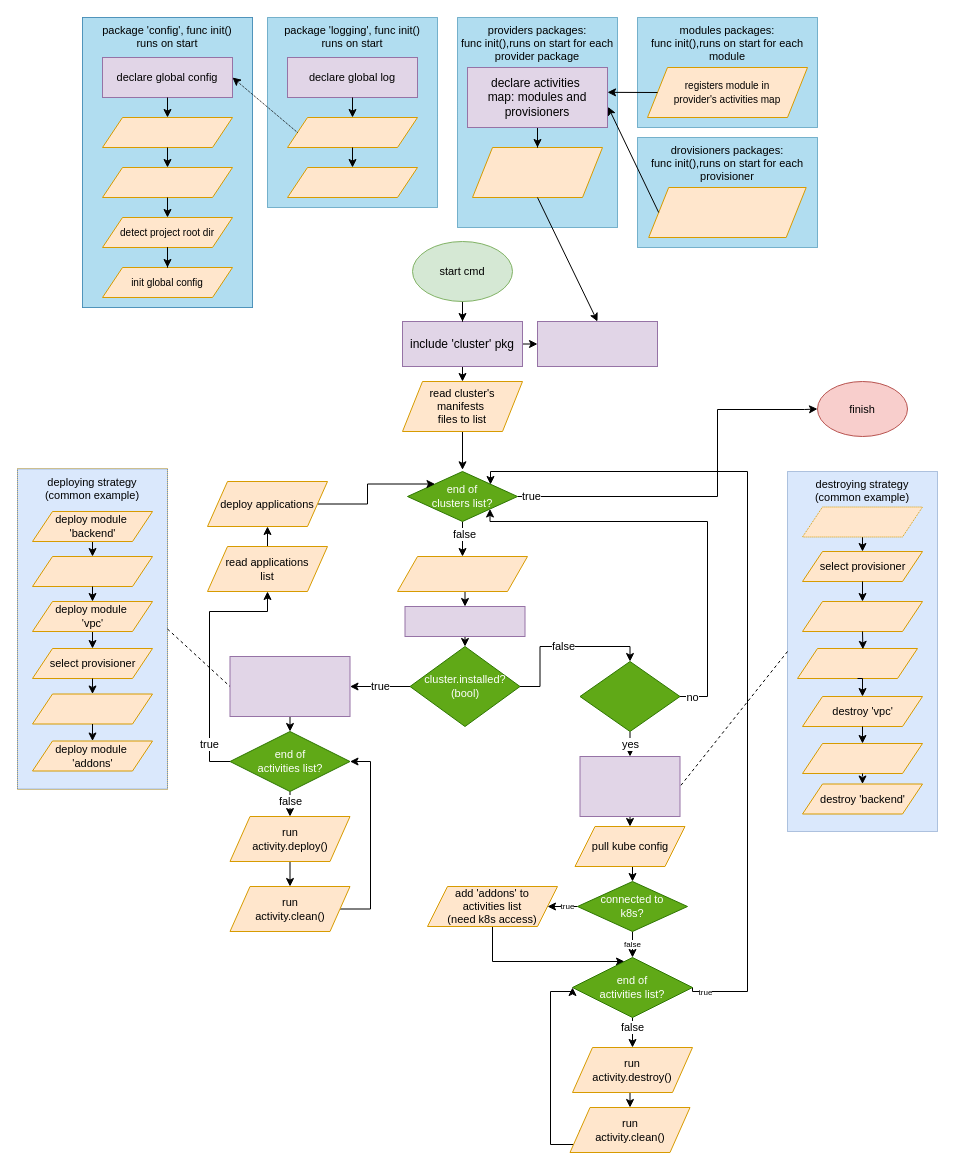
Some shapes in this 955 by 1170 pixel diagram are drawn without their labels. The shapes that lost their labels are listed below. From the top down, each one's centre as x and y in pixels, then its label:
At point (167, 132): "read and parse args".
At point (352, 132): "read configuration from global config".
At point (167, 182): "detect git provider".
At point (352, 182): "init logging driver".
At point (537, 172): "registers provider in providers map".
At point (727, 212): "registers provisioner in provider's activities map".
At point (597, 343): "declare global providers map".
At point (862, 521): "destroy 'addons' (if connected to k8s)".
At point (92, 571): "deploy module 'domain'".
At point (462, 574): "read, parse, check config".
At point (464, 621): "create new provider".
At point (862, 616): "pull kubeconfig".
At point (857, 663): "destroy provisioner".
At point (289, 686): "describe deploying strategy (array of activities)".
At point (629, 696): "remote state exists?".
At point (92, 708): "deploy provisioner".
At point (862, 758): "destroy 'domains'".
At point (629, 786): "describe destroying strategy (list of activities)".
